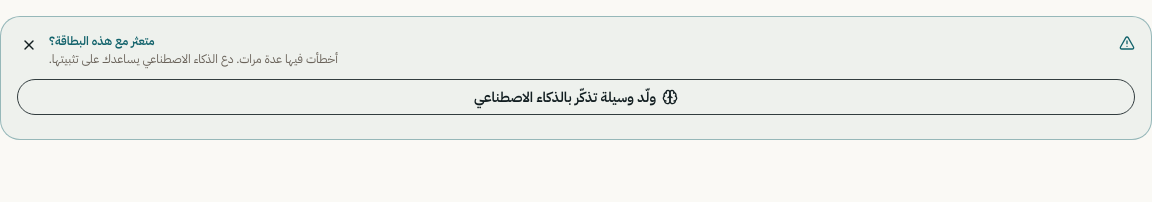
Test case: making a memory hook › shows the hook and keeps it
The image size is (1152, 202).
Click the button "ولّد وسيلة تذكّر بالذكاء الاصطناعي": click(576, 97) [17,79,1135,115]
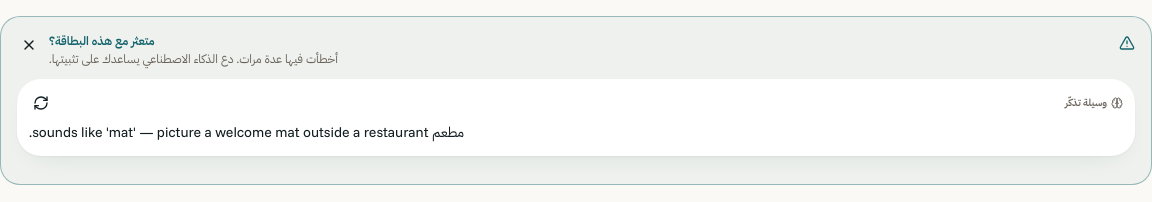
Now the text "welcome mat" is shown, box [29,123,464,141]
